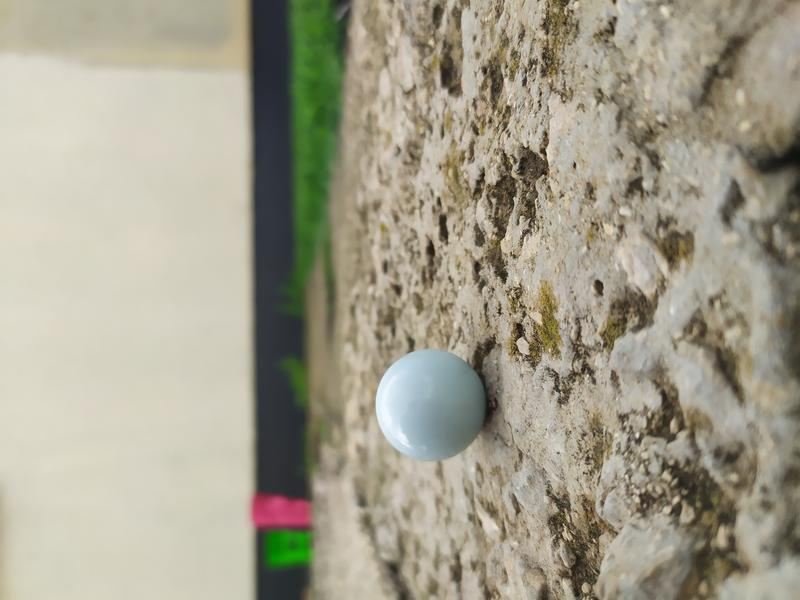Warning: (372, 344, 492, 465)
